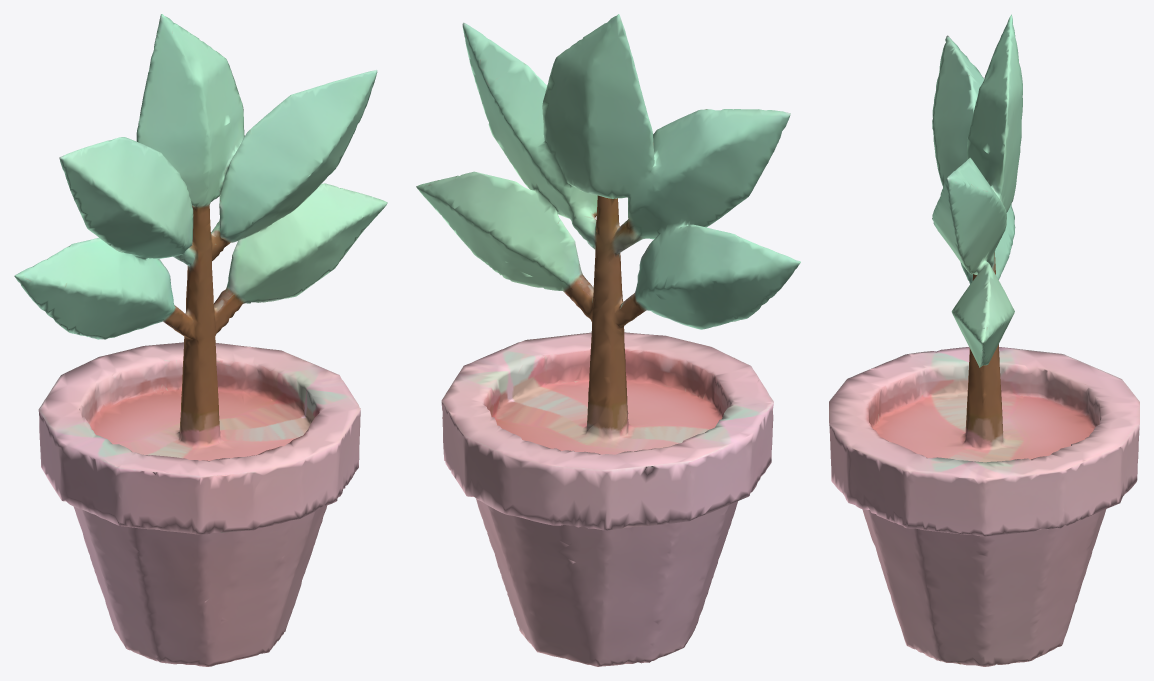
File: potted_plant.glb
3 renders of one model, left to right at view 1: azimuth 30°, elevation 25°; view 2: azimuth 150°, elevation 25°; view 3: azimuth 270°, elevation 25°, orthographic. The views are drawn at different scales.
Visible parts, largest first — view 1: model; view 2: model; view 3: model.
Boxes of the visible parts, x1,y1,x2,y2 form: model: (14,14,387,666); model: (416,14,800,666); model: (829,14,1139,666).
Size of the model in its own units: 1.21 by 1.9 by 0.8847.
Materials: 1 (1 with a texture image).
